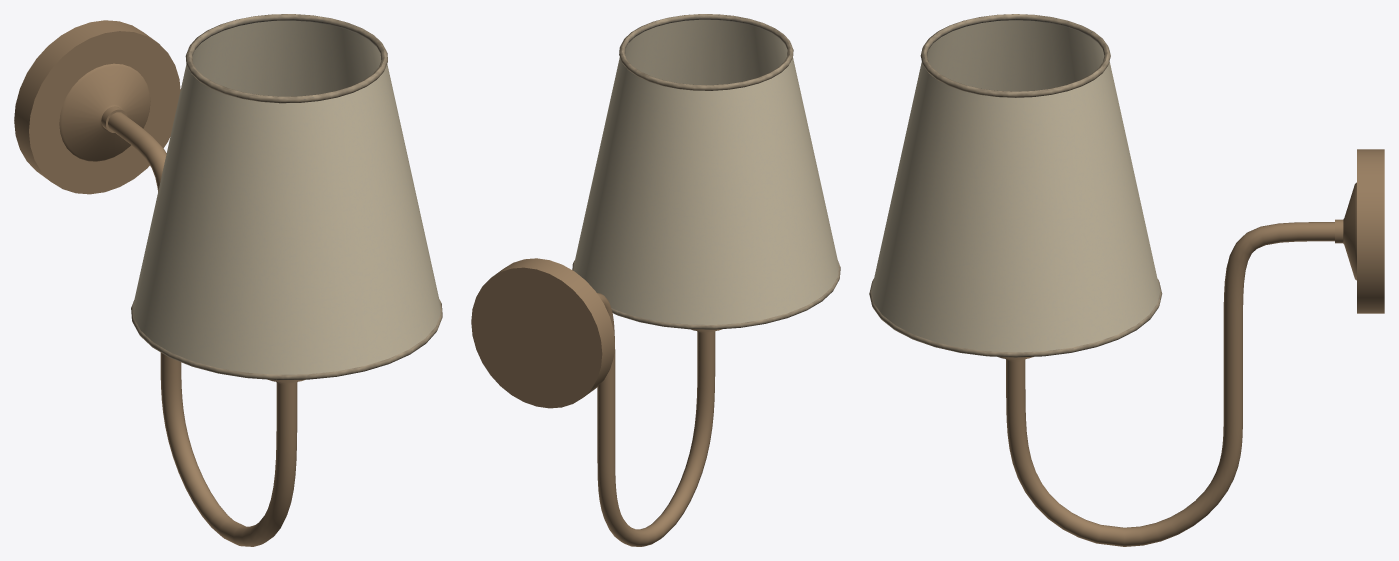
Rendered from wall_lamp_-_2048px2.glb.
3 views of the same model, side by side, from view 1: azimuth 30°, elevation 25°; view 2: azimuth 150°, elevation 25°; view 3: azimuth 270°, elevation 25° (orthographic). The views are drawn at different scales.
Parts seen in each view (by area): view 1: Wall Lamp; view 2: Wall Lamp; view 3: Wall Lamp.
Part boxes in pixels (x1=…): Wall Lamp: x1=14, y1=14, x2=442, y2=546; Wall Lamp: x1=471, y1=14, x2=840, y2=546; Wall Lamp: x1=869, y1=14, x2=1384, y2=546.
Size of the model in its own units: 0.1586 by 0.2946 by 0.2791.
3 materials, 3 textured.
